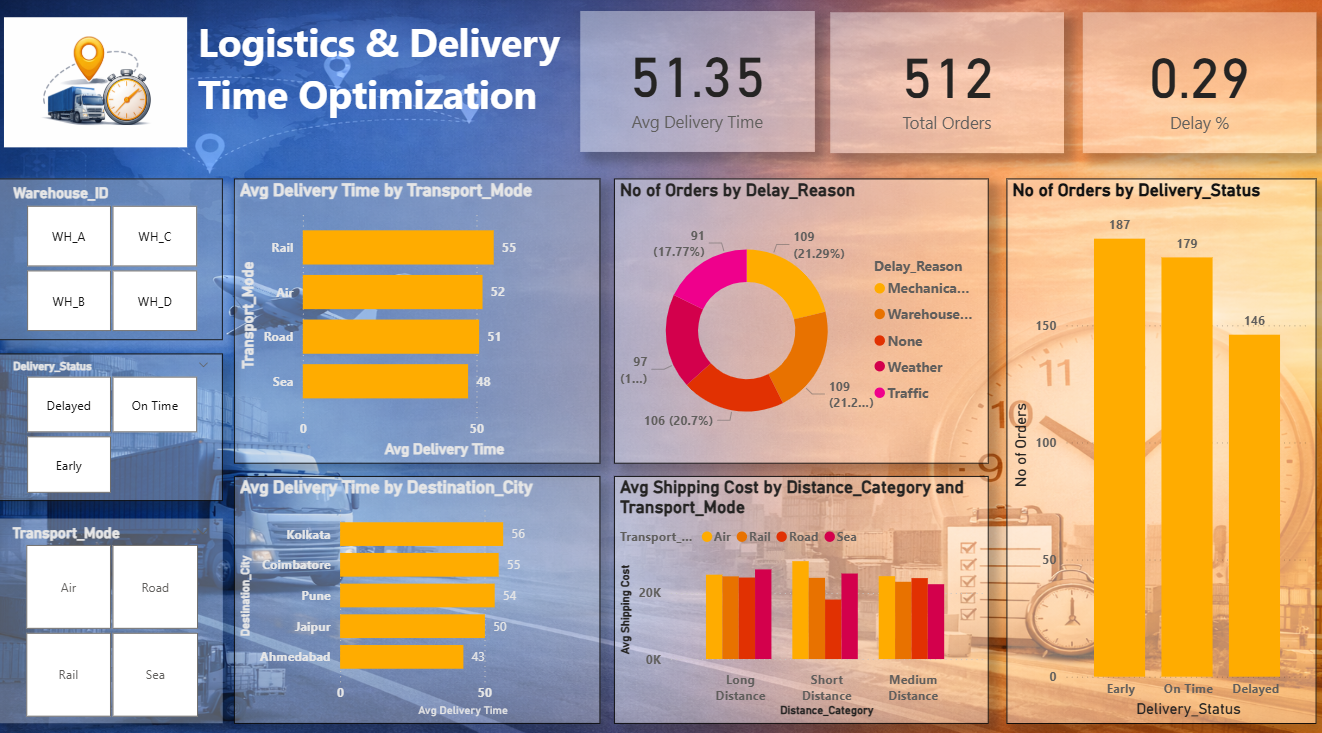

This screenshot's page, from the dashboard's own definition file:
{"tool":"powerbi","page":{"name":"Page 1","canvas":[1280,720],"ordinal":0},"visuals":[{"type":"card","fields":{"Values":["logistics_delivery_cleaned_data.Avg Delivery Time"]},"box":[561,14.5,226,136.3],"z":0},{"type":"card","fields":{"Values":["logistics_delivery_cleaned_data.Delay %"]},"box":[1046,15.7,225.6,136.3],"z":1000},{"type":"card","fields":{"Values":["logistics_delivery_cleaned_data.Total Orders"]},"box":[802.3,15.7,225.6,136.3],"z":2000},{"type":"clusteredColumnChart","fields":{"Category":["logistics_delivery_cleaned_data.Delivery_Status"],"Y":["CountNonNull(logistics_delivery_cleaned_data.Order_ID)"]},"box":[972.4,176.1,299.2,526],"z":3000},{"type":"barChart","fields":{"Category":["logistics_delivery_cleaned_data.Transport_Mode"],"Y":["logistics_delivery_cleaned_data.Avg Delivery Time"]},"box":[226.8,176.1,353.5,275.1],"z":4000},{"type":"donutChart","fields":{"Category":["logistics_delivery_cleaned_data.Delay_Reason"],"Y":["CountNonNull(logistics_delivery_cleaned_data.Order_ID)"]},"box":[593.6,176.1,361.9,275.1],"z":5000},{"type":"barChart","fields":{"Category":["logistics_delivery_cleaned_data.Destination_City"],"Y":["logistics_delivery_cleaned_data.Avg Delivery Time"]},"box":[226.8,463.3,353.5,238.9],"z":6000},{"type":"slicer","fields":{"Values":["logistics_delivery_cleaned_data.Transport_Mode"]},"box":[0,504.3,216,197.9],"z":7000},{"type":"slicer","fields":{"Values":["logistics_delivery_cleaned_data.Warehouse_ID"]},"box":[0,176.1,216,155.6],"z":8000},{"type":"slicer","fields":{"Values":["logistics_delivery_cleaned_data.Delivery_Status"]},"box":[0,345,216,142.4],"z":9000},{"type":"clusteredColumnChart","fields":{"Category":["logistics_delivery_cleaned_data.Distance_Category"],"Series":["logistics_delivery_cleaned_data.Transport_Mode"],"Y":["logistics_delivery_cleaned_data.Avg Shipping Cost"]},"box":[593.6,463.3,361.9,238.9],"z":10000},{"type":"textbox","box":[187,14.5,363.1,136.3],"z":11000},{"type":"image","box":[0,15.7,187,135.1],"z":11001}]}

Visuals, with their boxes in screenshot pixels (x1, y1, x2, y2), scaled from the page's 1280x720 canvas onto the 1322x733 screenshot:
card - logistics_delivery_cleaned_data.Avg Delivery Time: locate(579, 15, 813, 154)
card - logistics_delivery_cleaned_data.Delay %: locate(1080, 16, 1313, 155)
card - logistics_delivery_cleaned_data.Total Orders: locate(829, 16, 1062, 155)
clusteredColumnChart - logistics_delivery_cleaned_data.Delivery_Status x CountNonNull(logistics_delivery_cleaned_data.Order_ID): locate(1004, 179, 1313, 715)
barChart - logistics_delivery_cleaned_data.Transport_Mode x logistics_delivery_cleaned_data.Avg Delivery Time: locate(234, 179, 599, 459)
donutChart - logistics_delivery_cleaned_data.Delay_Reason x CountNonNull(logistics_delivery_cleaned_data.Order_ID): locate(613, 179, 987, 459)
barChart - logistics_delivery_cleaned_data.Destination_City x logistics_delivery_cleaned_data.Avg Delivery Time: locate(234, 472, 599, 715)
slicer - logistics_delivery_cleaned_data.Transport_Mode: locate(0, 513, 223, 715)
slicer - logistics_delivery_cleaned_data.Warehouse_ID: locate(0, 179, 223, 338)
slicer - logistics_delivery_cleaned_data.Delivery_Status: locate(0, 351, 223, 496)
clusteredColumnChart - logistics_delivery_cleaned_data.Distance_Category x logistics_delivery_cleaned_data.Transport_Mode: locate(613, 472, 987, 715)
textbox: locate(193, 15, 568, 154)
image: locate(0, 16, 193, 154)
